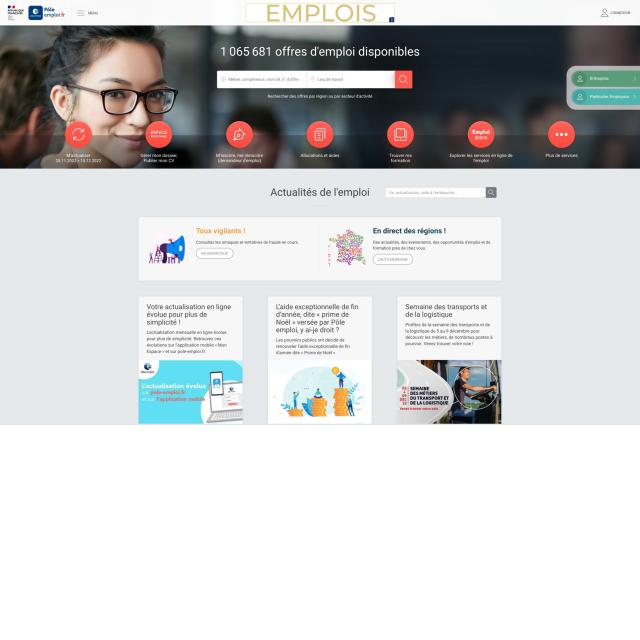input: (307, 71, 412, 88), (217, 70, 306, 88), (385, 186, 499, 198)
logo: (25, 4, 68, 23)
navigation: (75, 5, 101, 20)
